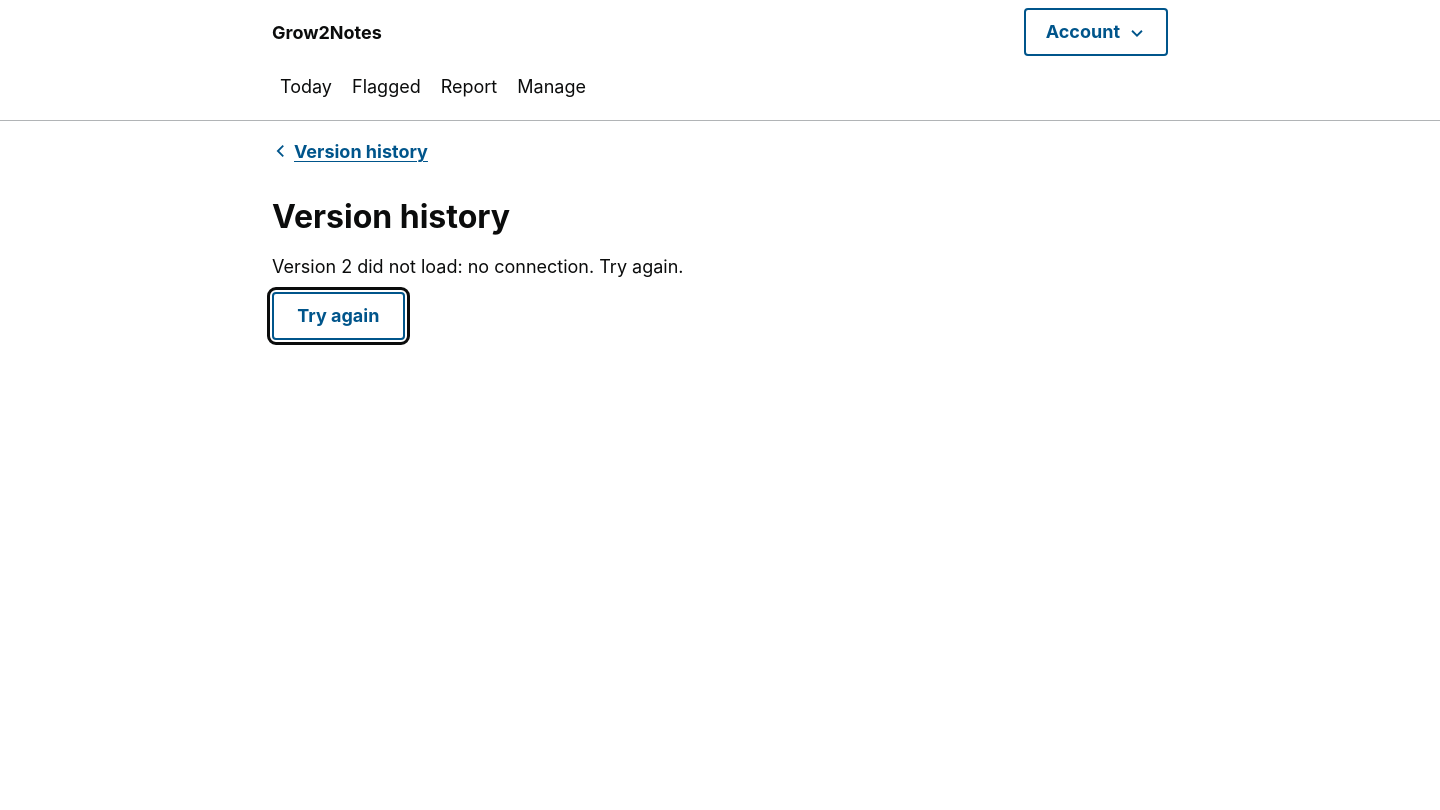
Test case: A version when it did not load › says "Version 2 did not load: …", and Try again sends the version again, then shows it
Expected: the message reads "Version 2 did not load: no connection. Try again.", [272, 256, 684, 277]
Click the button "Try again". click: (338, 316)
box: [272, 292, 405, 340]
Wait 1002 ms
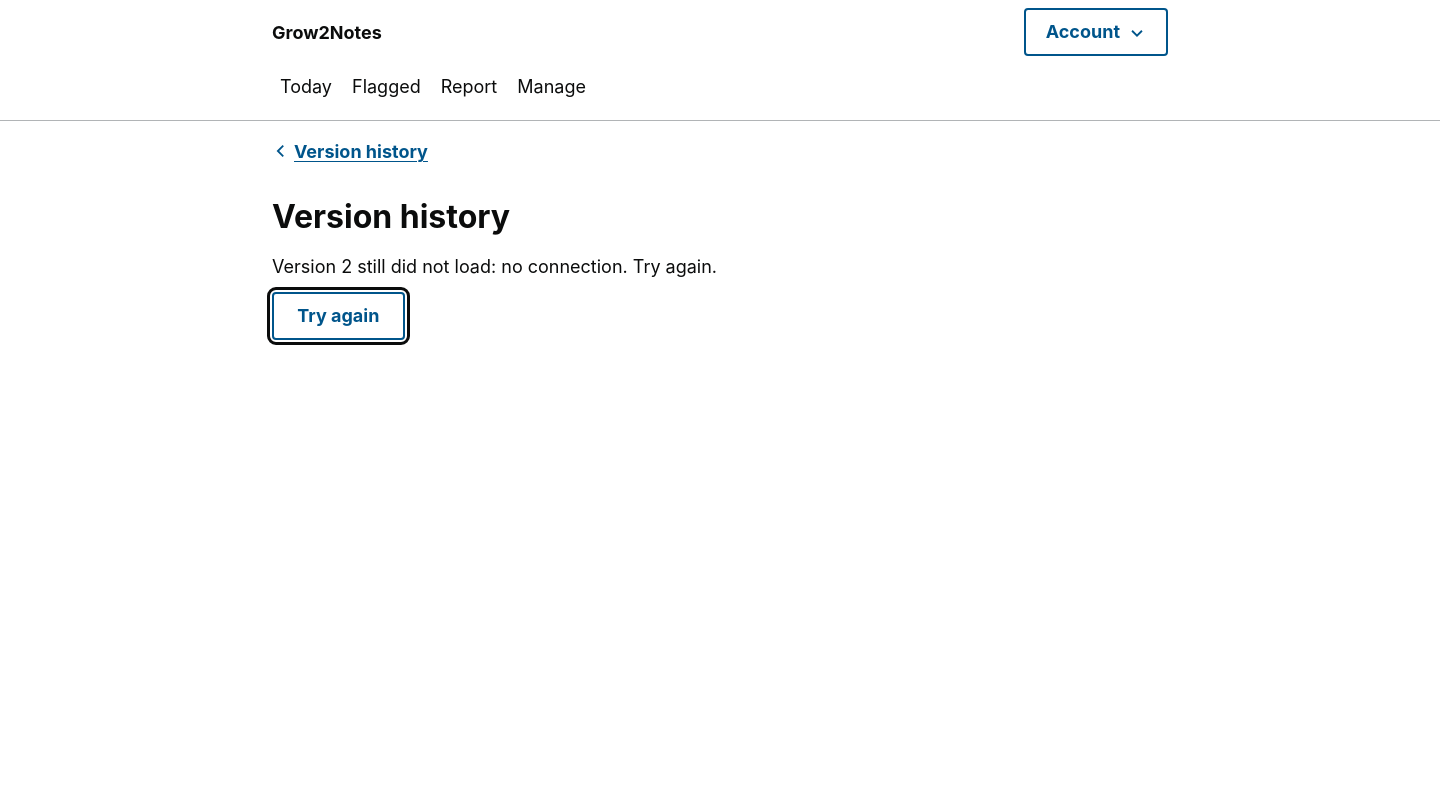
Expected: the message reads "Version 2 still did not load: no connection. Try again.", [272, 256, 717, 277]
Click the button "Try again". click: (338, 316)
box: [272, 292, 405, 340]
Wait 2 ms
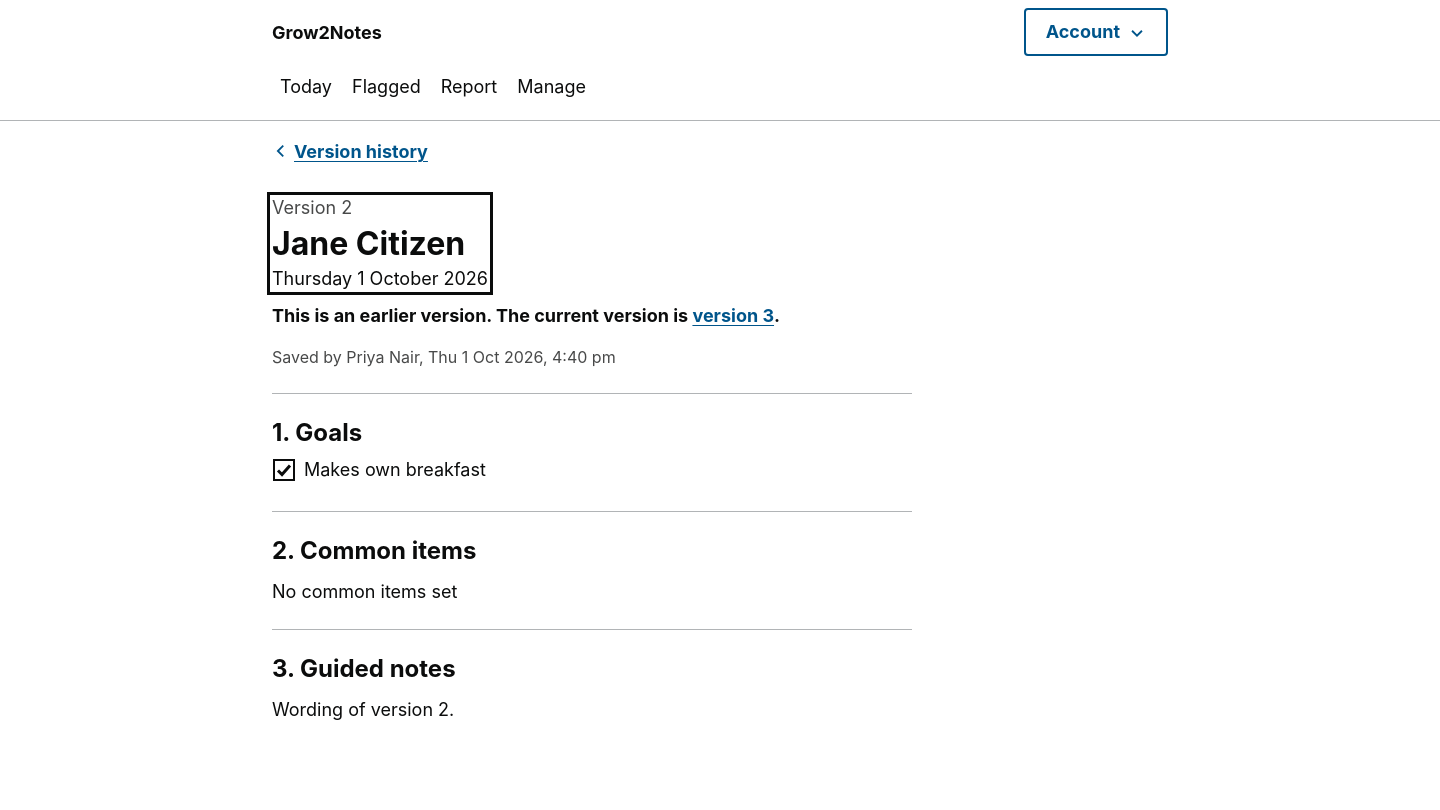
Expected: the button "Try again" is gone
